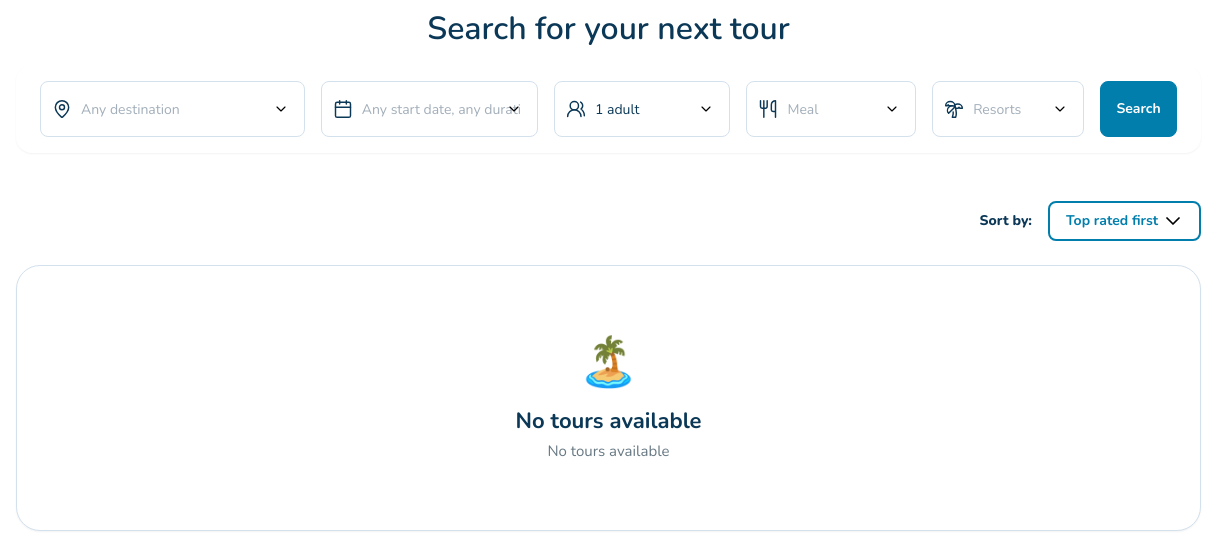
Test case: AllToursPage Component › renders filter empty state message when no tours match search filters (Empty State)
This screenshot has width=1218, height=548.
Type "NonExistentCity" into the field with placeholder "Any destination" at point(172, 109), box [40,81,305,137]
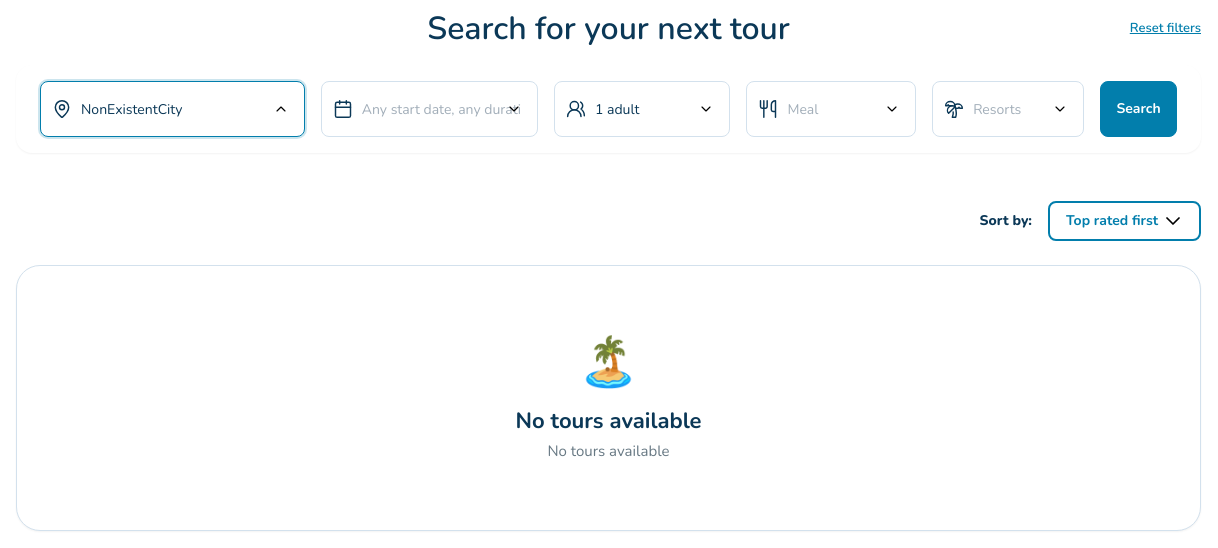
Click the button with test id "filter-search-btn" at point(1138, 109), box [1100,81,1177,137]
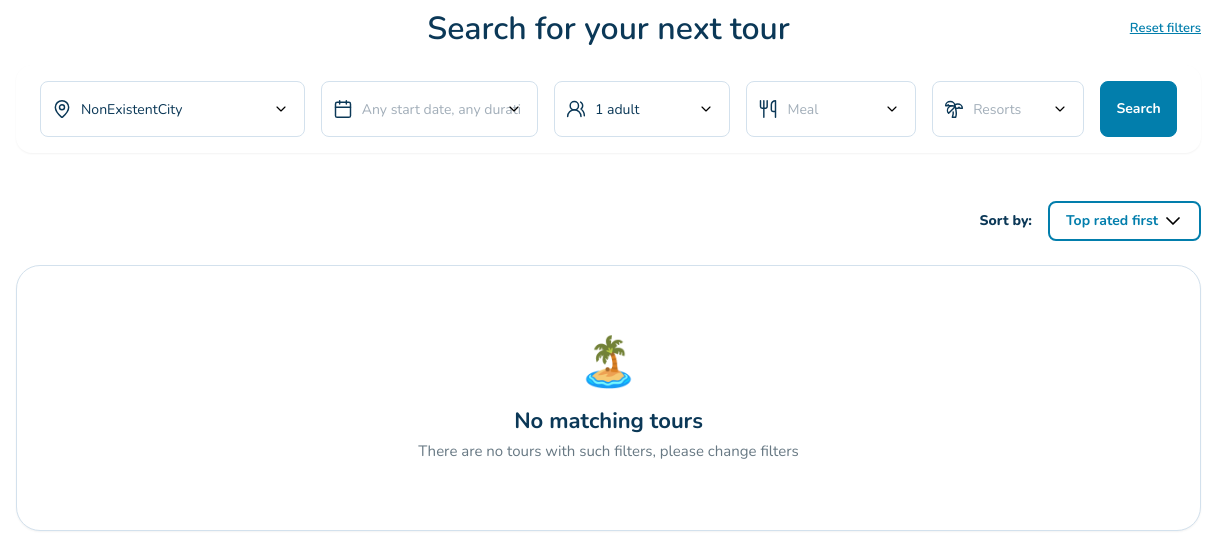
Check: the element with test id "tours-empty" is shown, box [16,265,1201,531]
Check: the text "There are no tours with such filters, please change filters" is shown, box [418,440,799,462]
